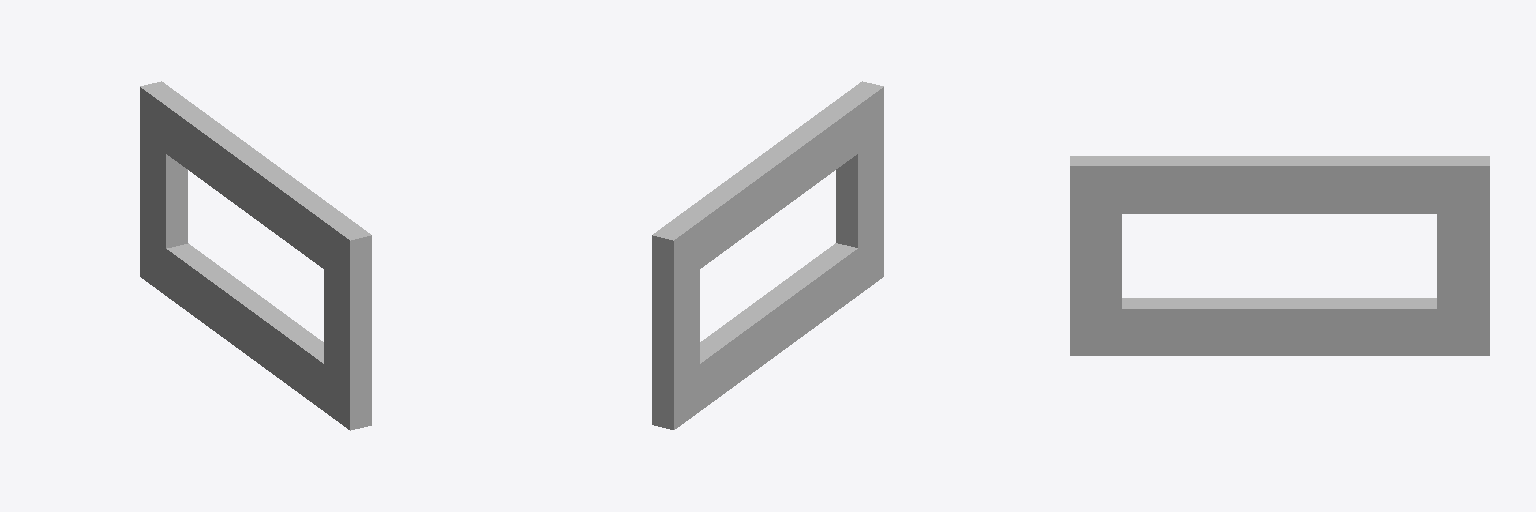
Rendered from microwave_door.obj.
The picture shows the model from 3 angles: view 1: azimuth 30°, elevation 25°; view 2: azimuth 150°, elevation 25°; view 3: azimuth 270°, elevation 25°; orthographic projection.
Visible parts, largest first — view 1: Door_Cube.002; view 2: Door_Cube.002; view 3: Door_Cube.002.
Boxes of the visible parts, x1=… form: Door_Cube.002: x1=140, y1=81, x2=371, y2=430; Door_Cube.002: x1=652, y1=81, x2=883, y2=429; Door_Cube.002: x1=1070, y1=156, x2=1489, y2=355.
Bounding box in the file's own units: 0.097 × 0.7982 × 1.6.